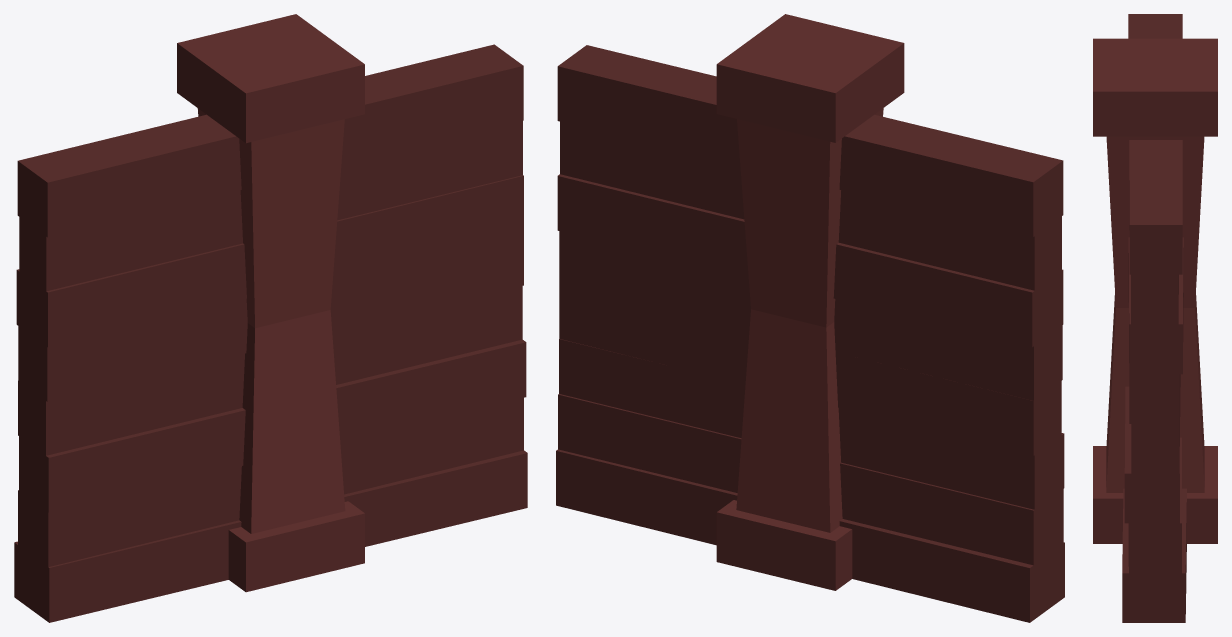
Rendered from Wall_5_Red.fbx.
3 renders of one model, left to right at view 1: azimuth 30°, elevation 25°; view 2: azimuth 150°, elevation 25°; view 3: azimuth 270°, elevation 25°, orthographic. The views are drawn at different scales.
Parts seen in each view (by area): view 1: Wall_5_Red; view 2: Wall_5_Red; view 3: Wall_5_Red.
Boxes of the visible parts, bbox=[...] form: Wall_5_Red: bbox=[14, 14, 527, 622]; Wall_5_Red: bbox=[556, 14, 1064, 622]; Wall_5_Red: bbox=[1093, 14, 1217, 622].
Size of the model in its own units: 200 by 200 by 50.
